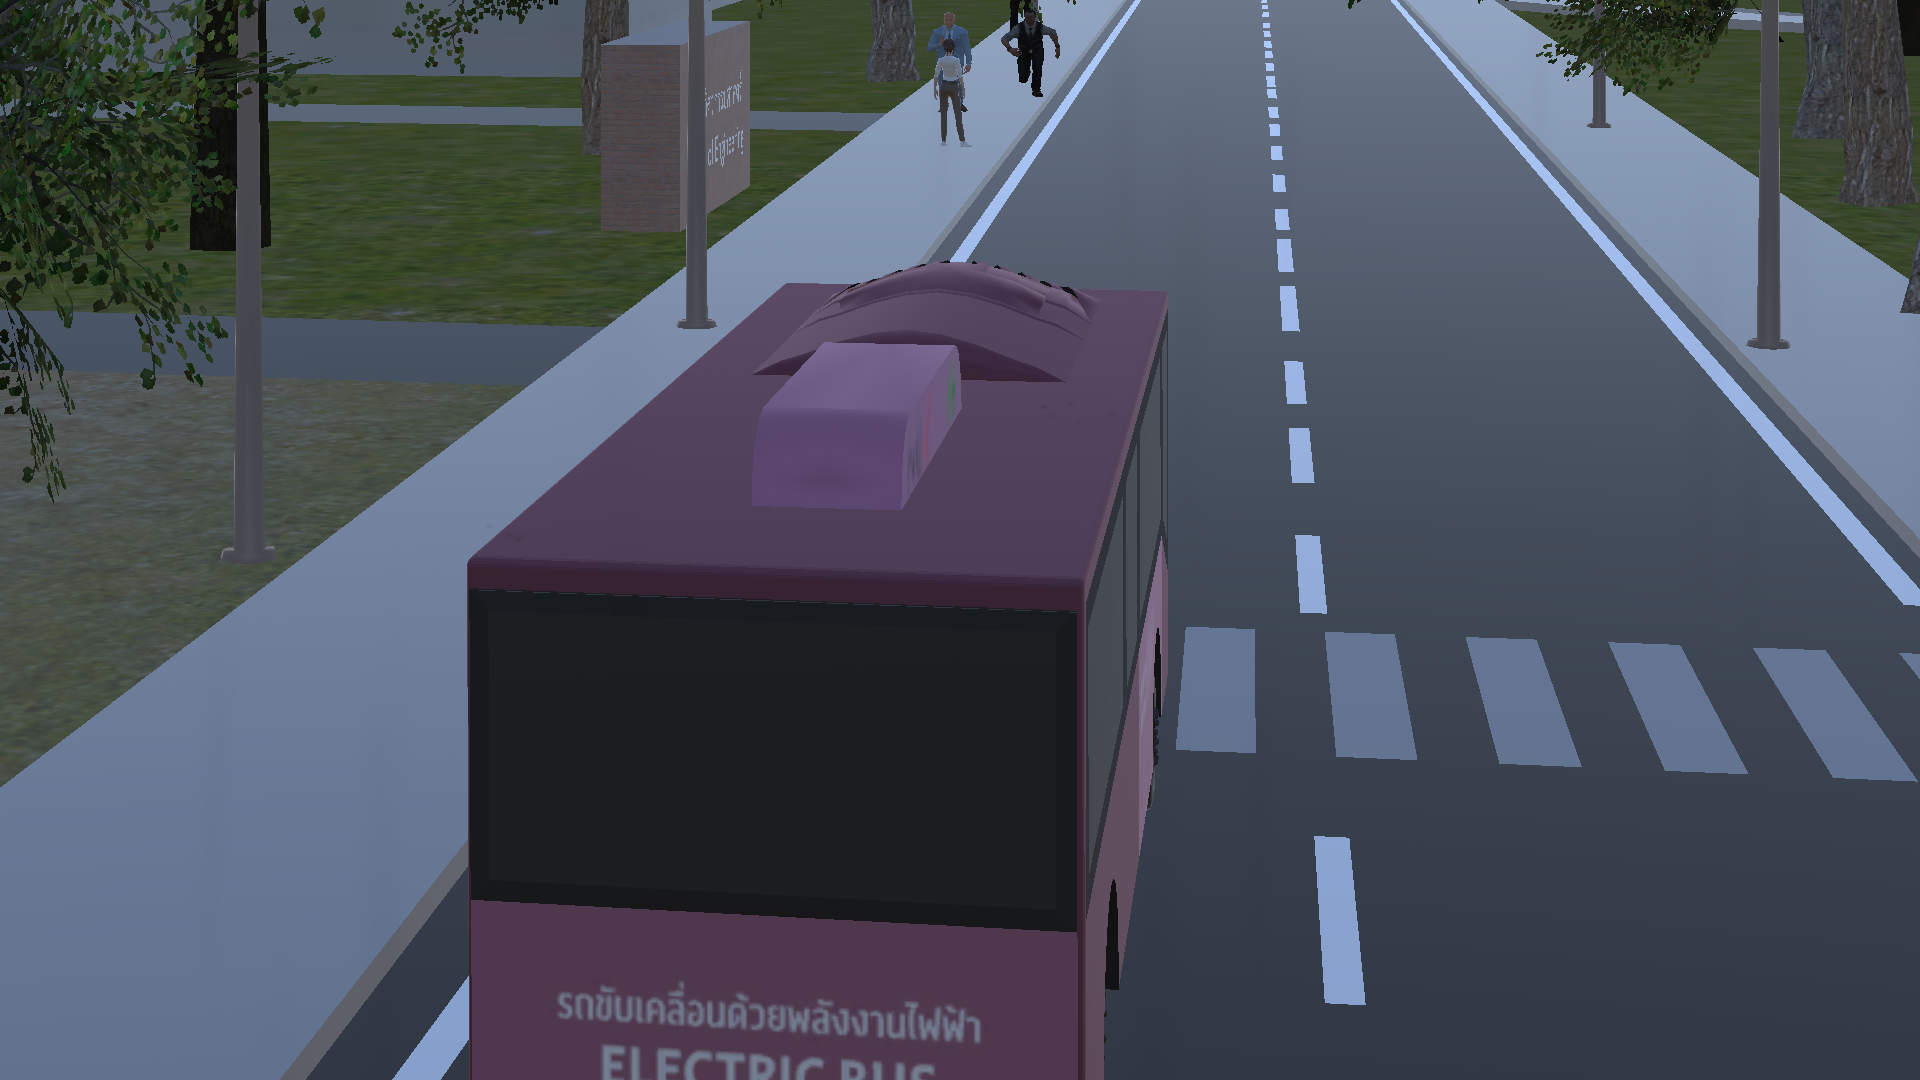pedestrian: (1003, 5, 1069, 115), (924, 37, 979, 151), (919, 8, 981, 41)
